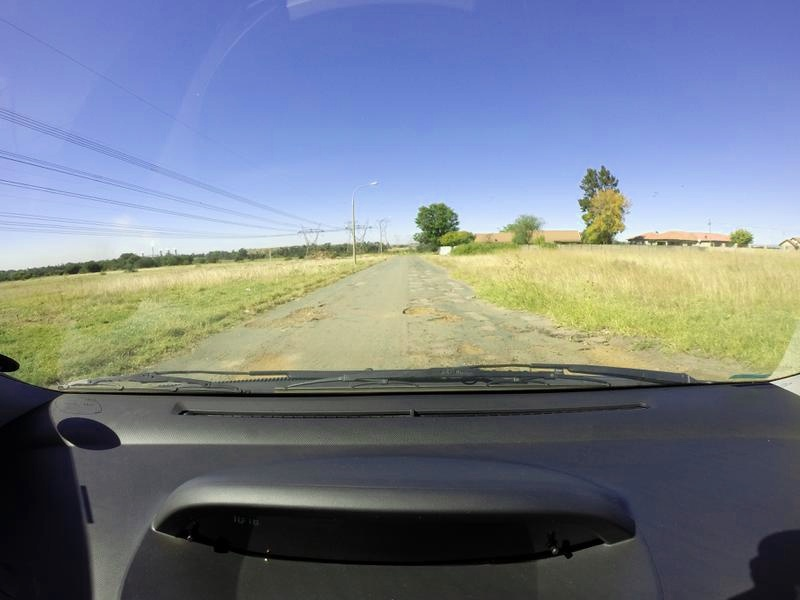pothole: (400, 335, 503, 360), (504, 307, 577, 338), (250, 309, 330, 330), (222, 351, 308, 367), (579, 347, 645, 363), (402, 302, 440, 318), (439, 311, 463, 327), (314, 297, 331, 306)
